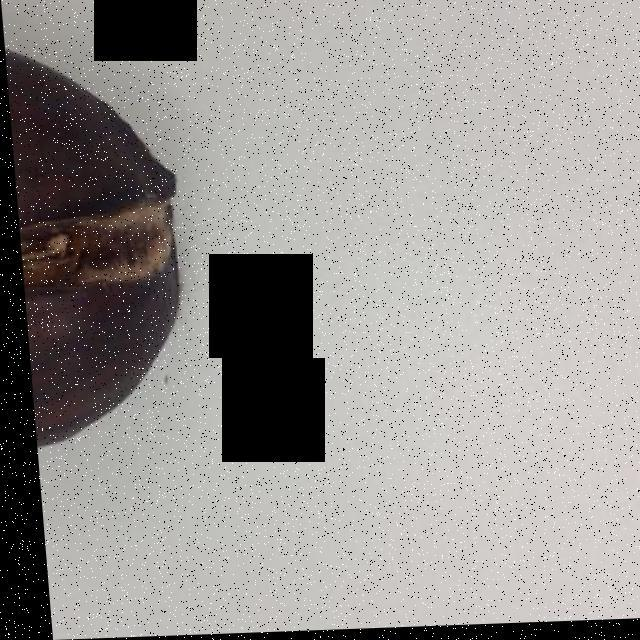nuts: (11, 47, 168, 457), (21, 56, 160, 429)
